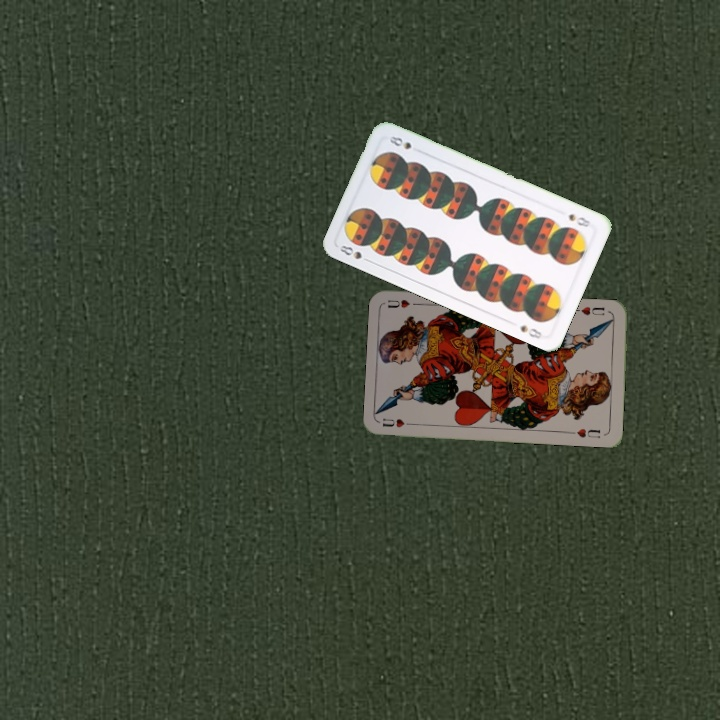HU: (379, 415, 418, 430), (572, 302, 607, 318)
S8: (336, 241, 374, 265), (564, 210, 596, 230)
